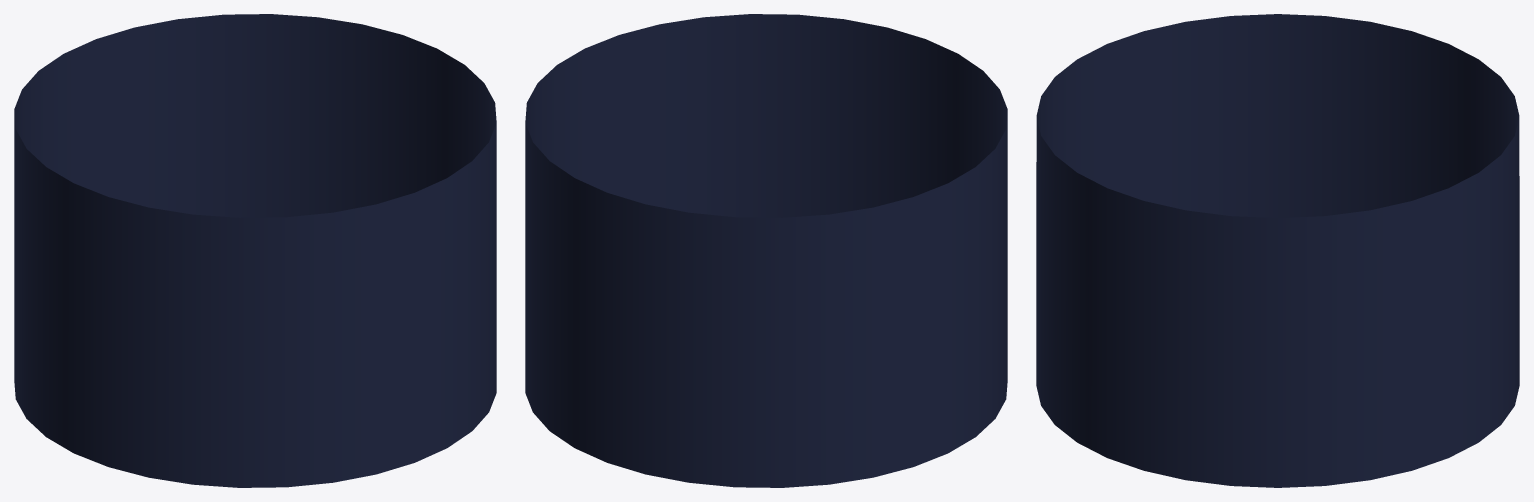
3 renders of one model, left to right at view 1: azimuth 30°, elevation 25°; view 2: azimuth 150°, elevation 25°; view 3: azimuth 270°, elevation 25°, orthographic.
Bounding box in the file's own units: 0.3023 × 0.1863 × 0.3023.
